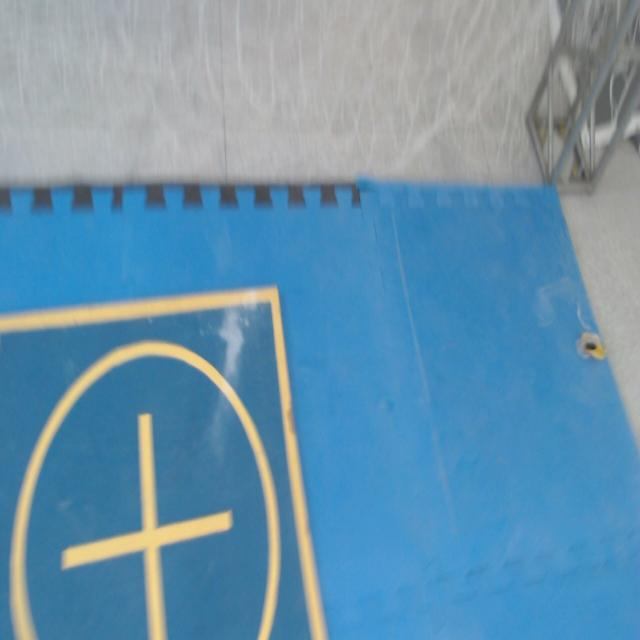base_pouso: (0, 288, 326, 639)
